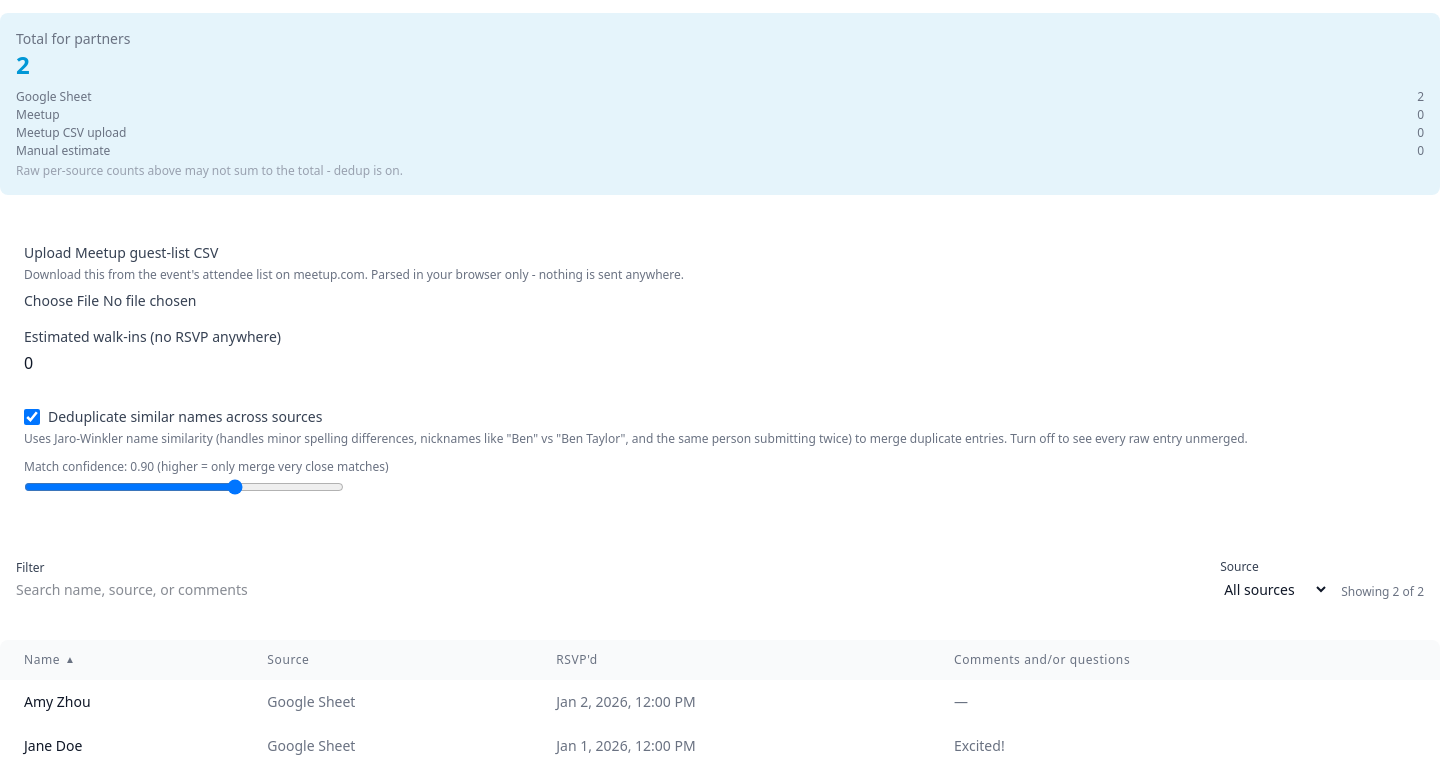
Test: RsvpReportPage - dedupe and table controls › shows a filtered-empty message when nothing matches
(page scrolled)
Type "nomatch" into the field labelled "Filter" at coordinates (612, 590), box 16,580 -> 1208,600
(page scrolled)
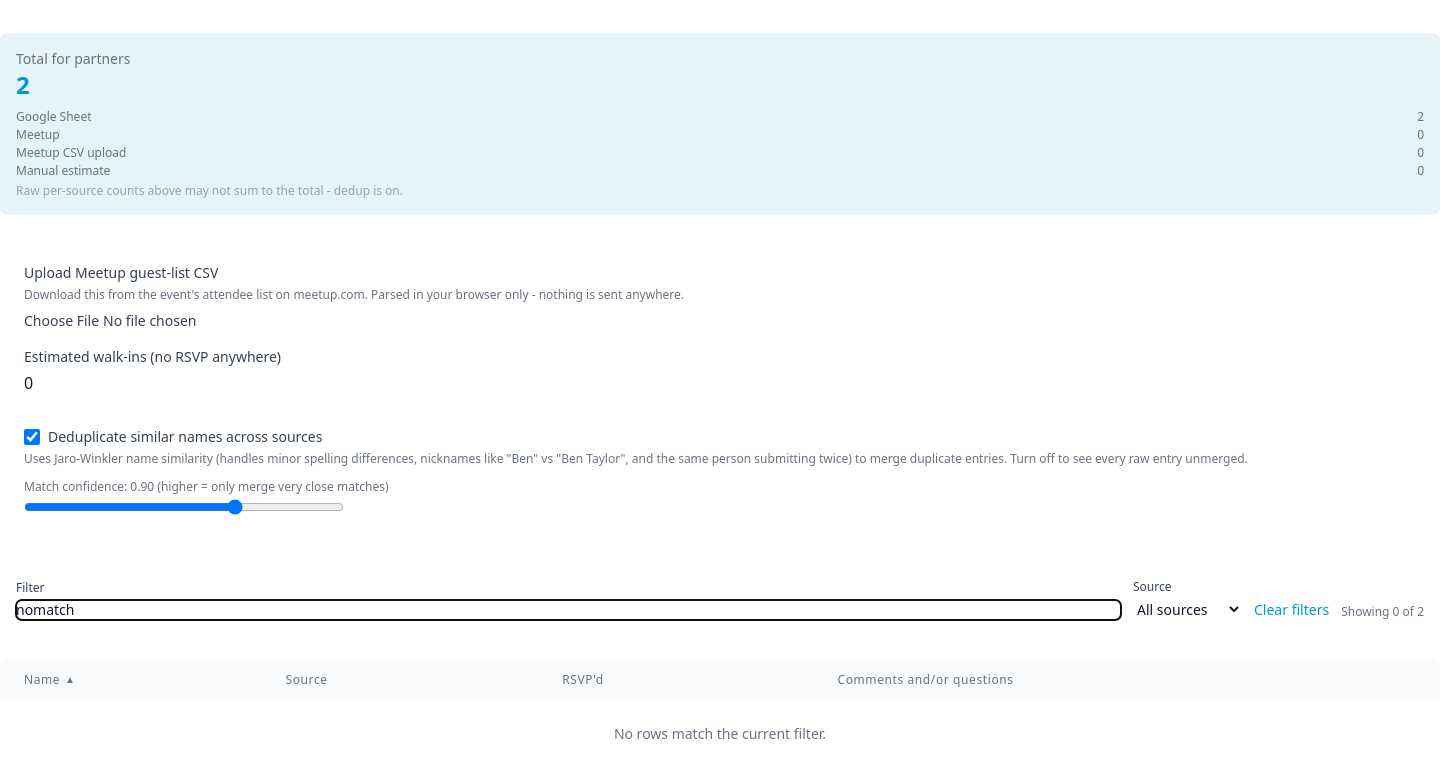
Expected: the text "No rows match the current filter." is shown, 0,700 -> 1439,767
